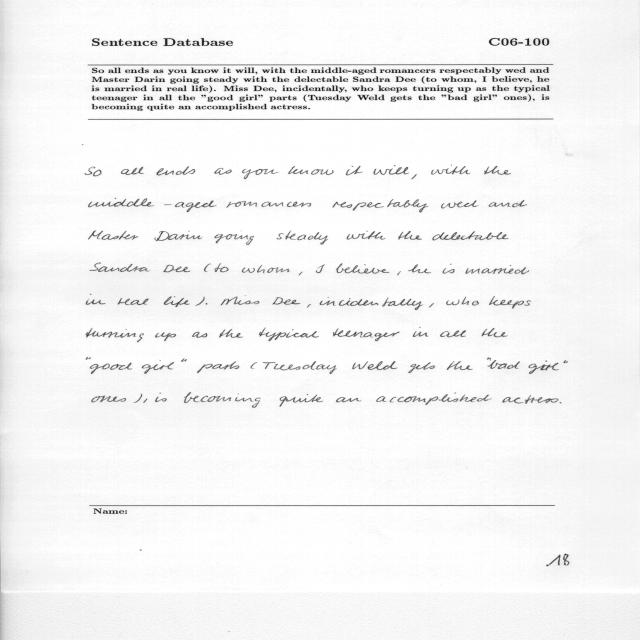word: (89, 198, 217, 212), (376, 392, 492, 405), (320, 297, 423, 310), (333, 199, 428, 213), (184, 393, 261, 408), (262, 361, 337, 374), (86, 328, 144, 342), (333, 329, 400, 341), (259, 328, 319, 341), (277, 231, 328, 245), (432, 232, 509, 241), (227, 201, 312, 208), (336, 263, 389, 274), (466, 265, 530, 274), (280, 394, 323, 407), (489, 296, 531, 309), (90, 263, 150, 272), (197, 361, 239, 373), (503, 395, 559, 404), (155, 231, 203, 241), (90, 363, 132, 374), (89, 231, 139, 240), (142, 360, 174, 374), (214, 234, 254, 245), (529, 360, 559, 374), (288, 166, 334, 175), (352, 361, 397, 370), (431, 165, 471, 175), (242, 265, 290, 273), (221, 296, 259, 306), (242, 169, 279, 179), (373, 165, 409, 175), (156, 167, 195, 176), (347, 231, 386, 240), (446, 297, 479, 306), (408, 362, 435, 373), (442, 201, 479, 209), (488, 360, 520, 369), (164, 296, 190, 307), (489, 200, 527, 207), (484, 166, 511, 175), (481, 328, 508, 337), (92, 396, 126, 403), (447, 361, 473, 370), (273, 297, 301, 305), (86, 294, 106, 305), (398, 231, 422, 240), (219, 329, 243, 338), (118, 298, 148, 305), (408, 265, 431, 274), (163, 265, 191, 272), (155, 332, 176, 341), (121, 167, 144, 175), (440, 331, 466, 338), (85, 167, 102, 177), (346, 166, 363, 176), (413, 327, 428, 337), (214, 168, 232, 175), (215, 264, 229, 273), (336, 397, 361, 402), (443, 264, 455, 274), (155, 392, 167, 402), (195, 297, 205, 306), (192, 332, 207, 338), (316, 265, 325, 274), (134, 394, 143, 403), (204, 264, 211, 272), (250, 362, 257, 369), (411, 174, 417, 179), (429, 303, 434, 308), (181, 358, 187, 362), (397, 271, 401, 275), (487, 357, 491, 361), (144, 399, 148, 403), (86, 357, 91, 360), (563, 360, 568, 363), (299, 272, 303, 275), (307, 304, 311, 307), (560, 402, 562, 404), (206, 303, 208, 304)
